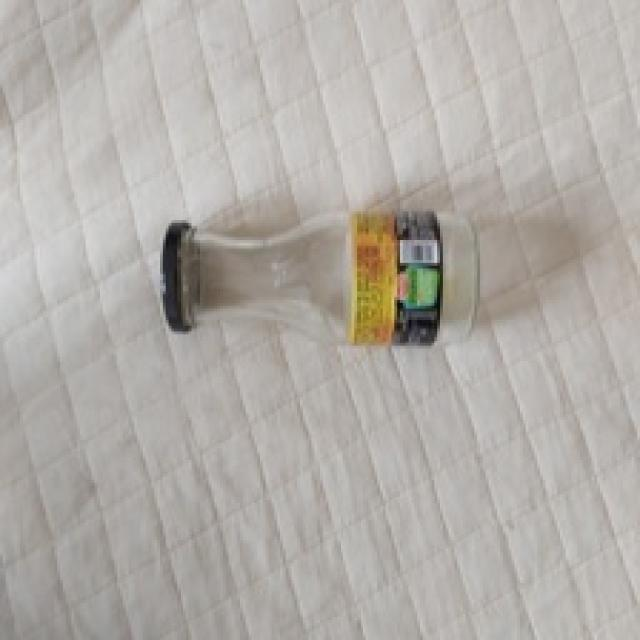Glass: (182, 208, 481, 349)
